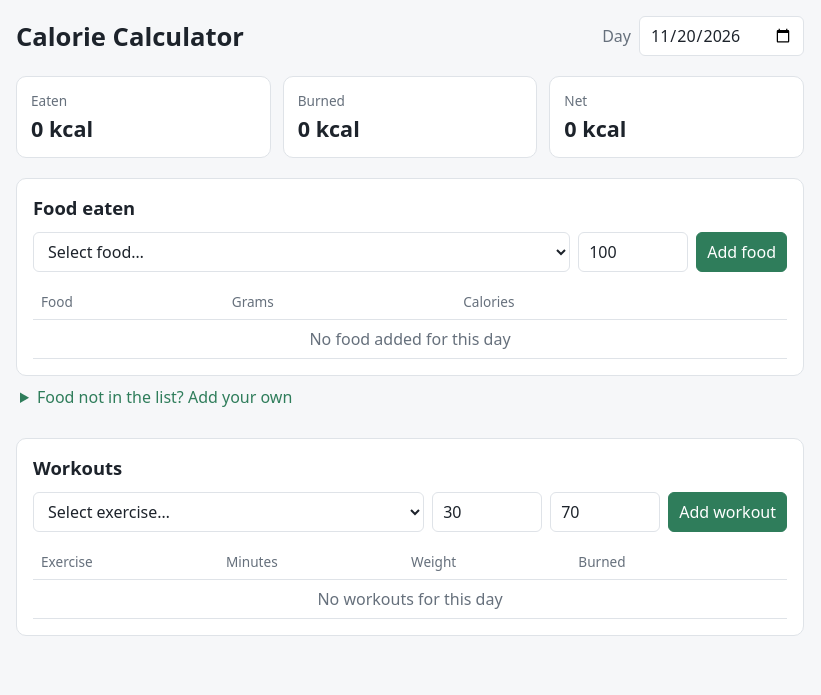
Test: App › adding food shows it in the table and updates the summary
Select "Apple (52 kcal/100 g)" in the dropdown named "Food" at (302, 252), box [33,232,570,272]
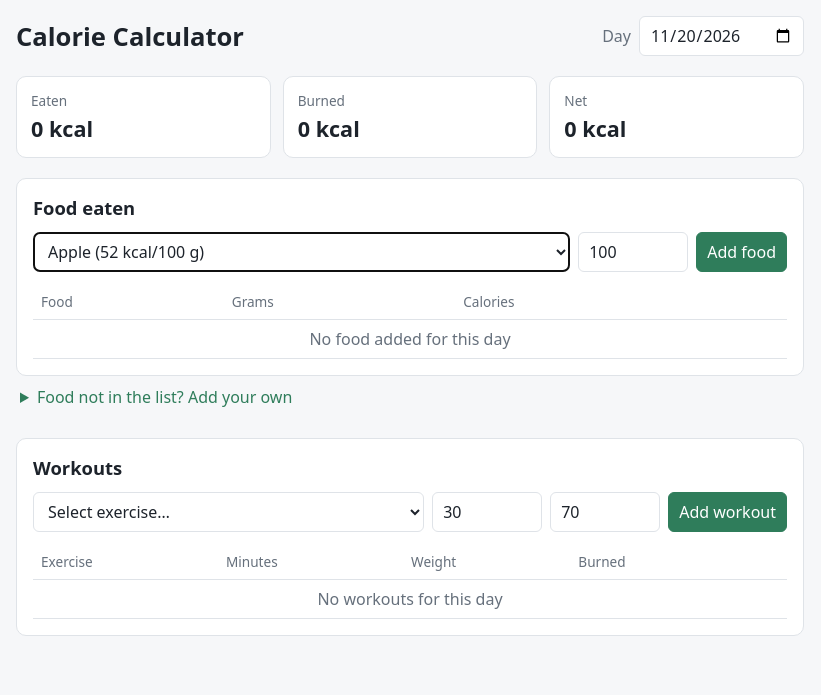
Replace the text in the number field named "Grams" with "200" at (633, 252), box [578,232,688,272]
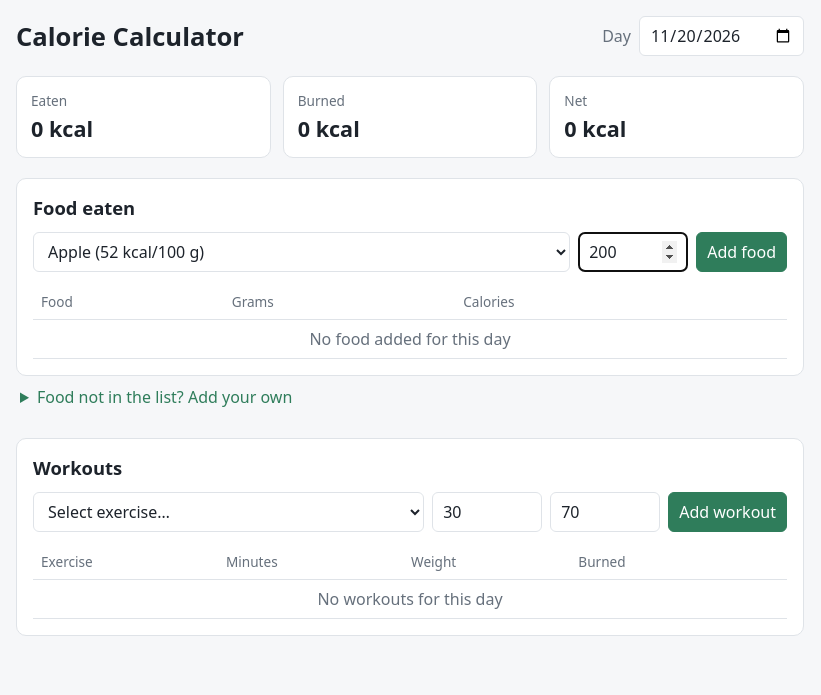
Click the button "Add food" at (742, 252), box [696,232,787,272]
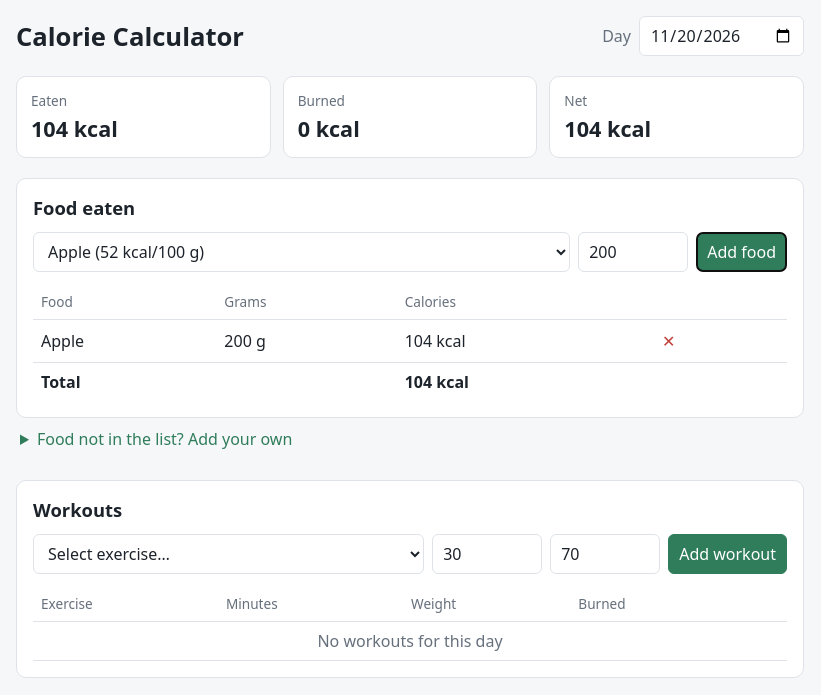
Check: the cell "Apple" is shown, box [33,320,216,362]
Check: the text with test id "eaten" reads "104 kcal", box [31,114,118,143]
